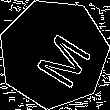M_NW: (20, 21, 87, 86)
